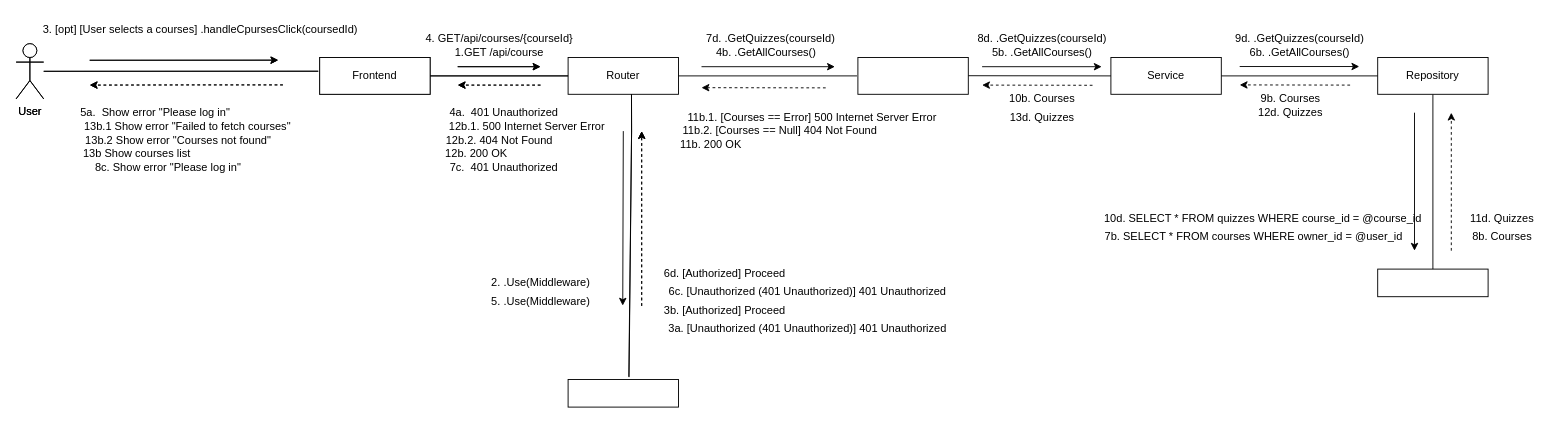
Image size: 1559x423. Some labels were removed from this diagram. The shapes that lost their labels are listed below. From the top down, each one's centre as x and y in pixels, then its label:
At point (912, 75): "Controller".
At point (1432, 282): "Database".
At point (622, 393): "Middleware".
